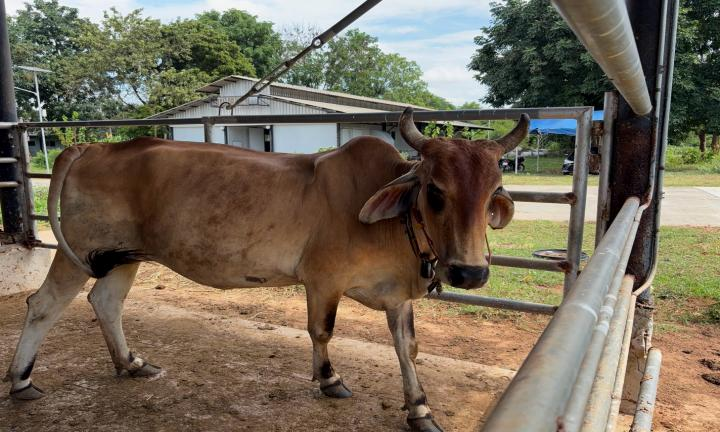Brahman: (5, 107, 529, 432)
